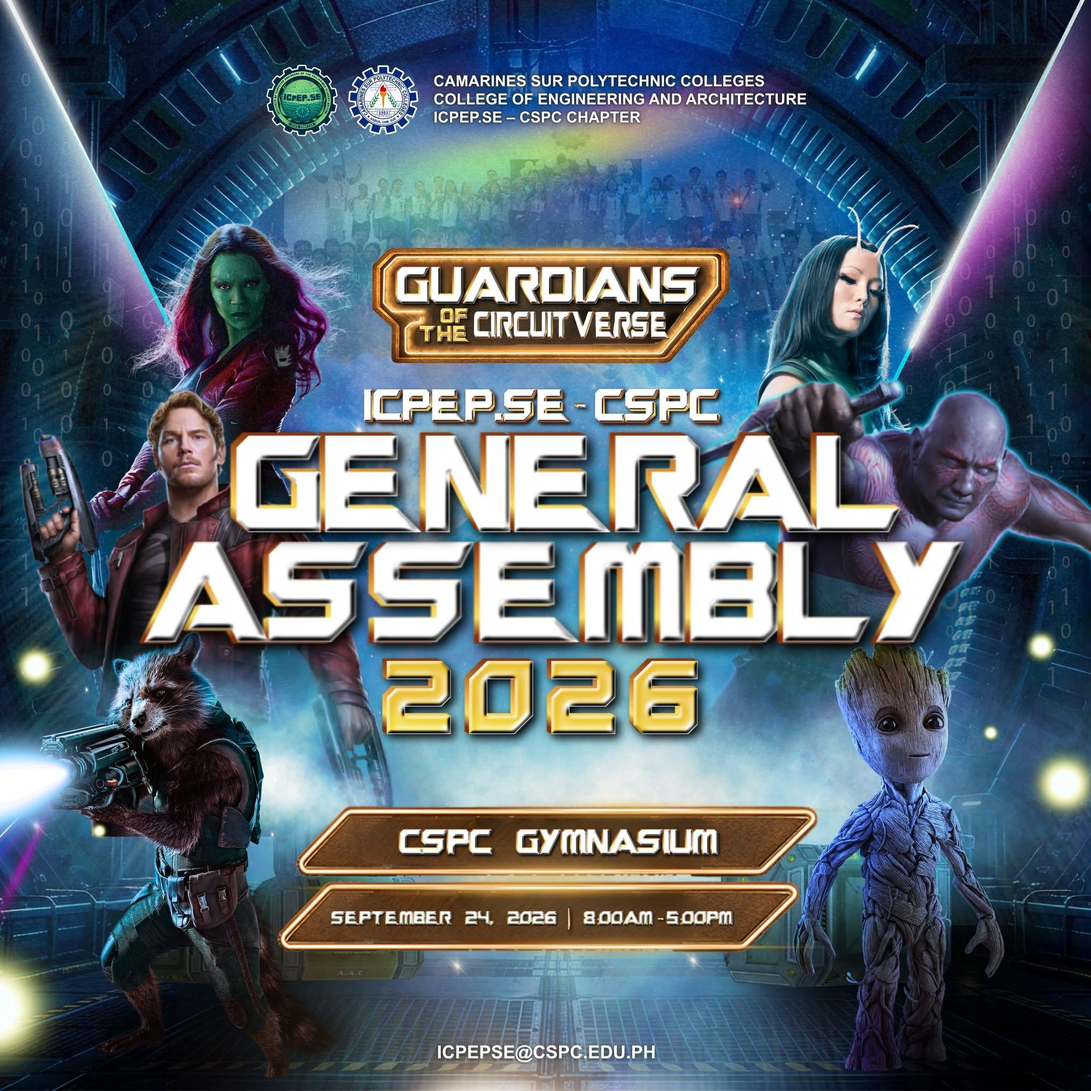embellishment: (15, 215, 405, 806), (0, 630, 346, 1090), (700, 197, 1090, 597), (790, 642, 1014, 1078), (1, 944, 53, 1076), (1031, 748, 1091, 821), (14, 642, 55, 690), (1022, 628, 1060, 663), (981, 721, 1001, 741)
logo: (262, 61, 340, 138), (344, 62, 421, 137)
text: (129, 426, 971, 651), (373, 650, 709, 743), (431, 71, 811, 126), (359, 384, 727, 428), (393, 263, 703, 305), (395, 823, 724, 860), (326, 905, 739, 932), (419, 305, 672, 344), (433, 1040, 658, 1065)
underlay: (371, 246, 731, 366), (296, 806, 818, 877), (279, 881, 799, 951)
